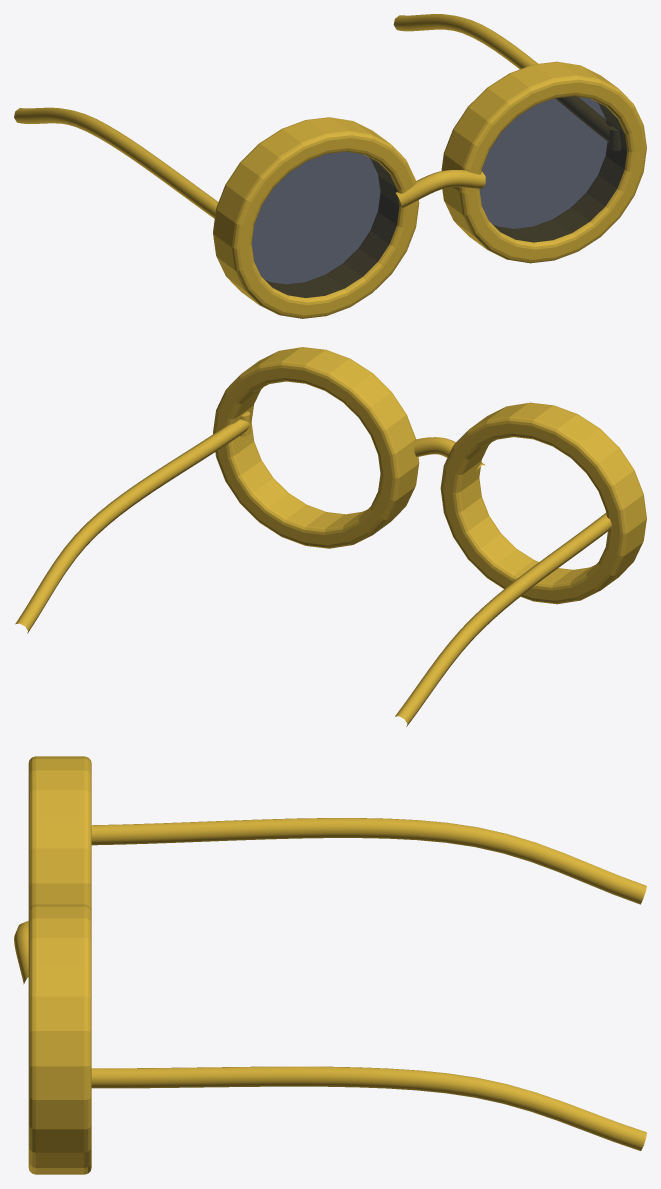
File: aero-round-gold.glb
3 views of the same model, one above another, from view 1: azimuth 30°, elevation 25°; view 2: azimuth 150°, elevation 25°; view 3: azimuth 270°, elevation 25° (orthographic). The views are drawn at different scales.
Parts seen in each view (by area): view 1: LeftRim_FrameMesh, RightRim_FrameMesh, LeftLens, RightLens, LeftTemple_FrameMesh, RightTemple_FrameMesh, Bridge_FrameMesh; view 2: RightRim_FrameMesh, LeftRim_FrameMesh, RightTemple_FrameMesh, LeftTemple_FrameMesh, Bridge_FrameMesh; view 3: RightRim_FrameMesh, RightTemple_FrameMesh, LeftTemple_FrameMesh, LeftRim_FrameMesh, Bridge_FrameMesh.
Boxes of the visible parts, box(x1,y1,x2,y2) form: LeftRim_FrameMesh: box(213, 117, 419, 318); RightRim_FrameMesh: box(441, 61, 646, 263); LeftLens: box(251, 151, 399, 297); RightLens: box(479, 96, 626, 242); LeftTemple_FrameMesh: box(14, 107, 218, 218); RightTemple_FrameMesh: box(393, 14, 609, 142); Bridge_FrameMesh: box(395, 170, 485, 207); RightRim_FrameMesh: box(213, 347, 419, 548); LeftRim_FrameMesh: box(440, 402, 646, 604); RightTemple_FrameMesh: box(15, 419, 249, 633); LeftTemple_FrameMesh: box(395, 513, 611, 726); Bridge_FrameMesh: box(414, 437, 485, 471); RightRim_FrameMesh: box(28, 904, 91, 1174); RightTemple_FrameMesh: box(91, 1066, 646, 1150); LeftTemple_FrameMesh: box(91, 818, 646, 904); LeftRim_FrameMesh: box(28, 756, 91, 910); Bridge_FrameMesh: box(14, 921, 28, 984).
Size of the model in its own units: 131 by 55.02 by 130.
